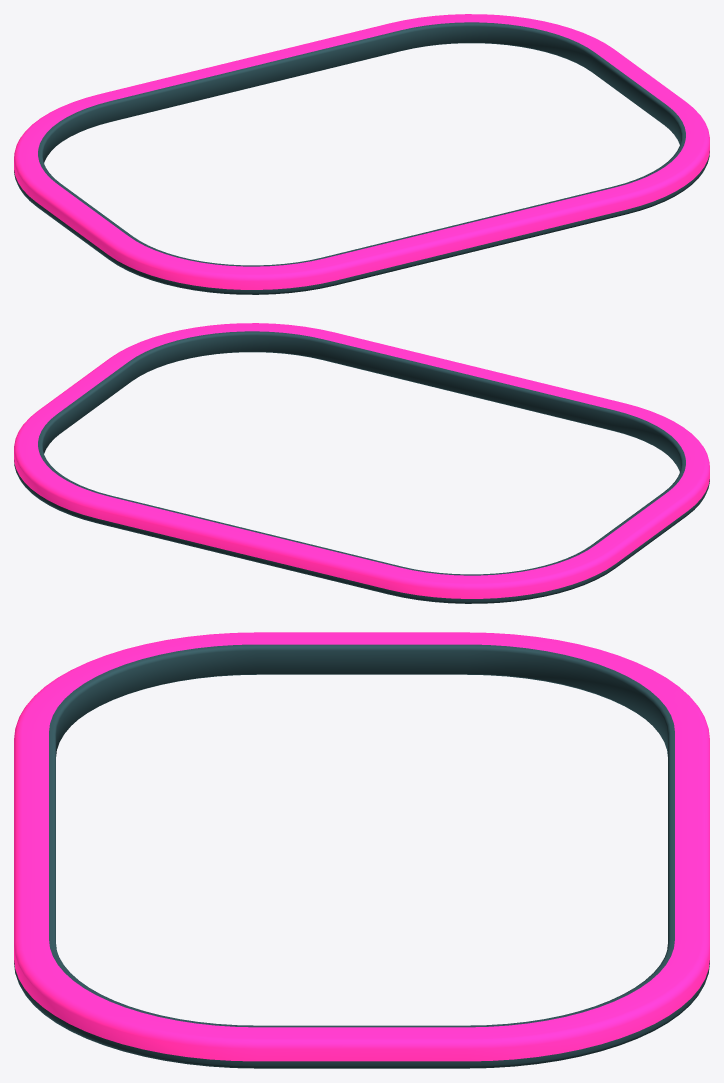
The model's file is d06_entertainment_hall_02.glb.
3 renders of one model, top to bottom at view 1: azimuth 30°, elevation 25°; view 2: azimuth 150°, elevation 25°; view 3: azimuth 270°, elevation 25°, orthographic. The views are drawn at different scales.
Parts seen in each view (by area): view 1: D06EntertainmentHall02_Mesh; view 2: D06EntertainmentHall02_Mesh; view 3: D06EntertainmentHall02_Mesh.
Boxes of the visible parts, x1,y1,x2,y2 form: D06EntertainmentHall02_Mesh: [14, 14, 709, 294]; D06EntertainmentHall02_Mesh: [14, 323, 709, 603]; D06EntertainmentHall02_Mesh: [14, 632, 709, 1068].
Size of the model in its own units: 27.9 by 0.9 by 19.9.
